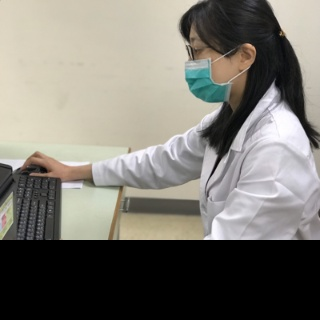with_mask: (184, 33, 237, 102)
